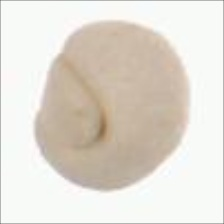L5: (32, 52, 110, 151)
L6: (33, 18, 192, 194)
